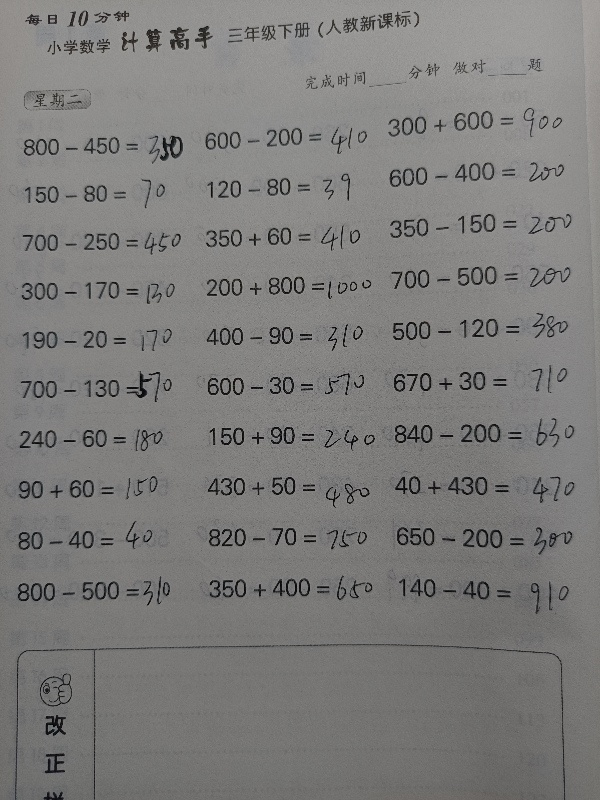equation: (384, 103, 581, 150), (383, 305, 571, 353), (12, 361, 192, 407), (390, 571, 570, 616), (8, 571, 188, 616), (388, 519, 575, 562), (386, 416, 587, 456), (15, 128, 195, 172), (384, 363, 577, 404), (385, 468, 584, 506), (9, 515, 189, 557), (199, 468, 379, 510), (197, 120, 377, 162), (197, 219, 377, 260), (201, 568, 381, 608), (9, 470, 189, 508), (11, 422, 191, 460), (15, 225, 195, 263), (12, 272, 192, 309), (198, 268, 378, 305), (380, 156, 570, 191), (381, 208, 578, 241), (199, 519, 379, 555), (198, 170, 378, 205), (388, 264, 579, 296), (198, 369, 378, 402), (13, 323, 193, 356), (197, 319, 377, 352), (16, 178, 196, 210), (205, 420, 379, 452)
